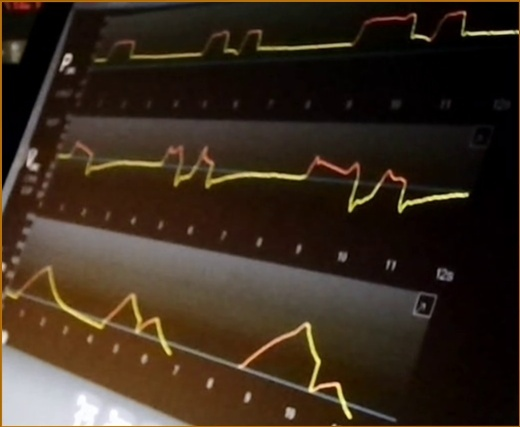Double_Triggering Flow: (60, 133, 466, 216)
Double_Triggering Volume: (12, 263, 352, 420)
